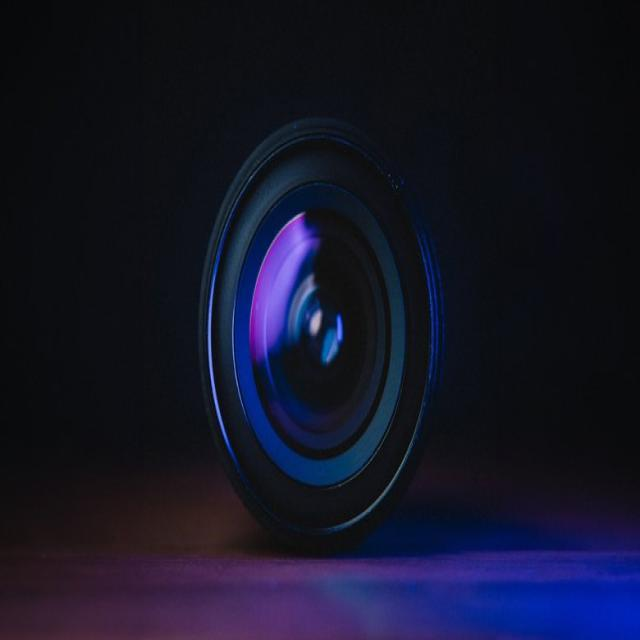hidden camera: (212, 153, 434, 522)
